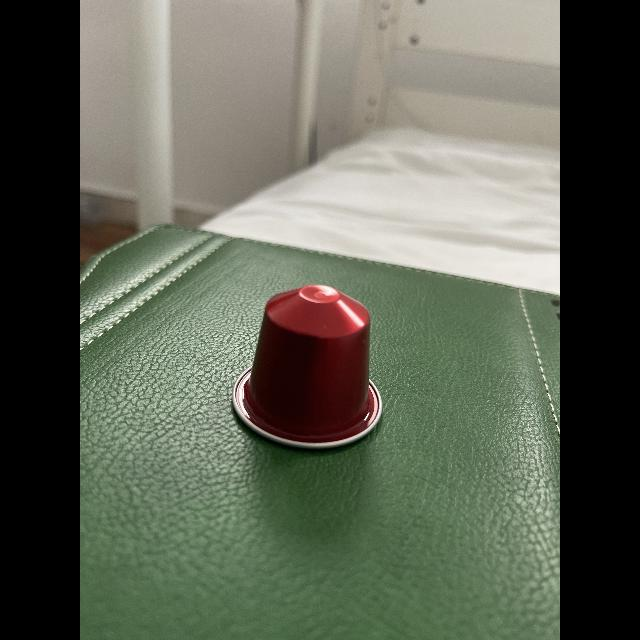intact_capsule: (220, 276, 396, 458)
